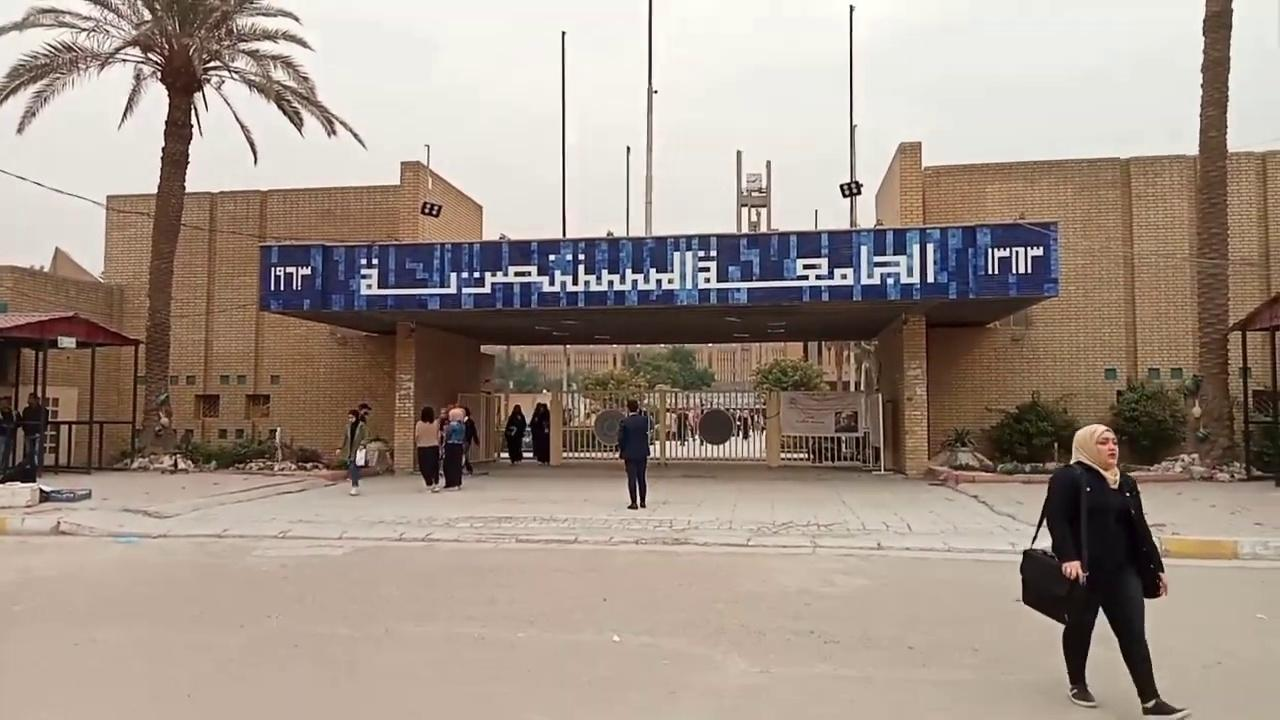person: (1044, 423, 1192, 719), (616, 398, 654, 509), (336, 407, 368, 495), (413, 405, 442, 492), (20, 392, 48, 473), (0, 395, 21, 472), (504, 403, 526, 464), (529, 402, 550, 464), (461, 405, 479, 475)
tree: (0, 0, 366, 452), (1187, 0, 1240, 468), (747, 353, 830, 465), (634, 344, 716, 437), (983, 388, 1079, 464), (1108, 377, 1190, 465), (483, 346, 546, 424), (635, 344, 715, 391), (747, 353, 830, 394), (577, 364, 649, 411)
